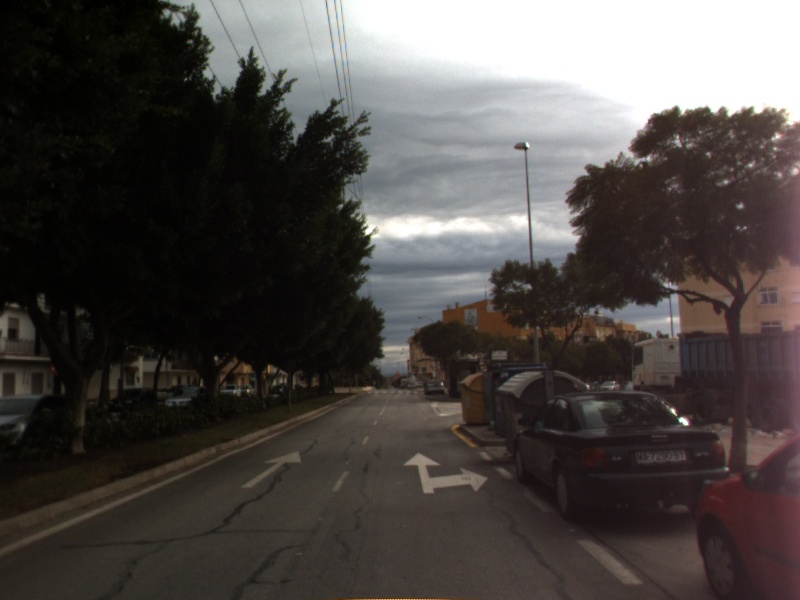STRAIGHT: (239, 449, 304, 490)
STRAIGHT_RIGHT: (401, 450, 491, 495)
